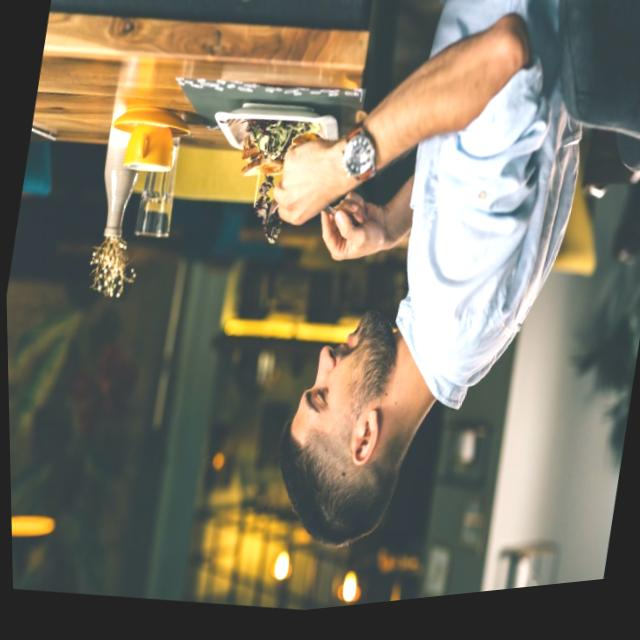eating-person: (162, 0, 624, 621)
